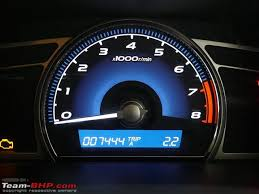Digital_Meter: (77, 129, 185, 149)
